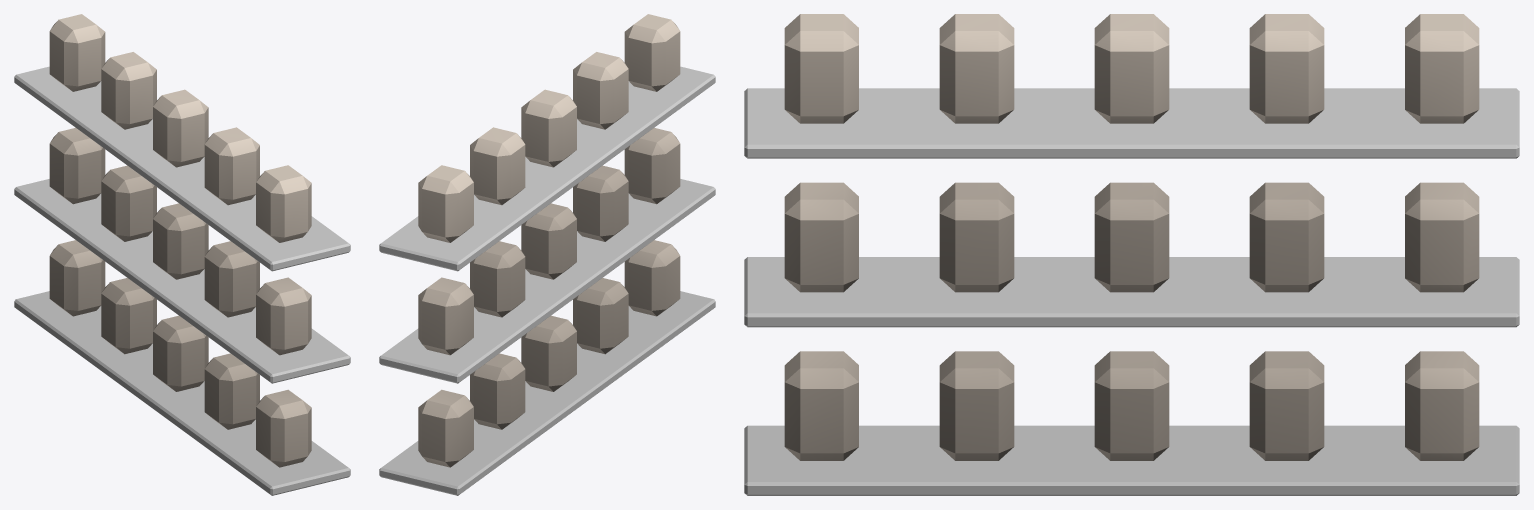
Rendered from cellar_shelf.glb.
The picture shows the model from 3 angles, left to right: view 1: azimuth 30°, elevation 25°; view 2: azimuth 150°, elevation 25°; view 3: azimuth 270°, elevation 25°; orthographic projection. The views are drawn at different scales.
Parts seen in each view (by area): view 1: ccrock; view 2: ccrock; view 3: ccrock.
Boxes of the visible parts, <box> form: ccrock: <box>14,14,350,495</box>; ccrock: <box>379,14,715,495</box>; ccrock: <box>744,14,1519,495</box>.
Bounding box in the file's own units: 0.45 × 1.58 × 2.5.
